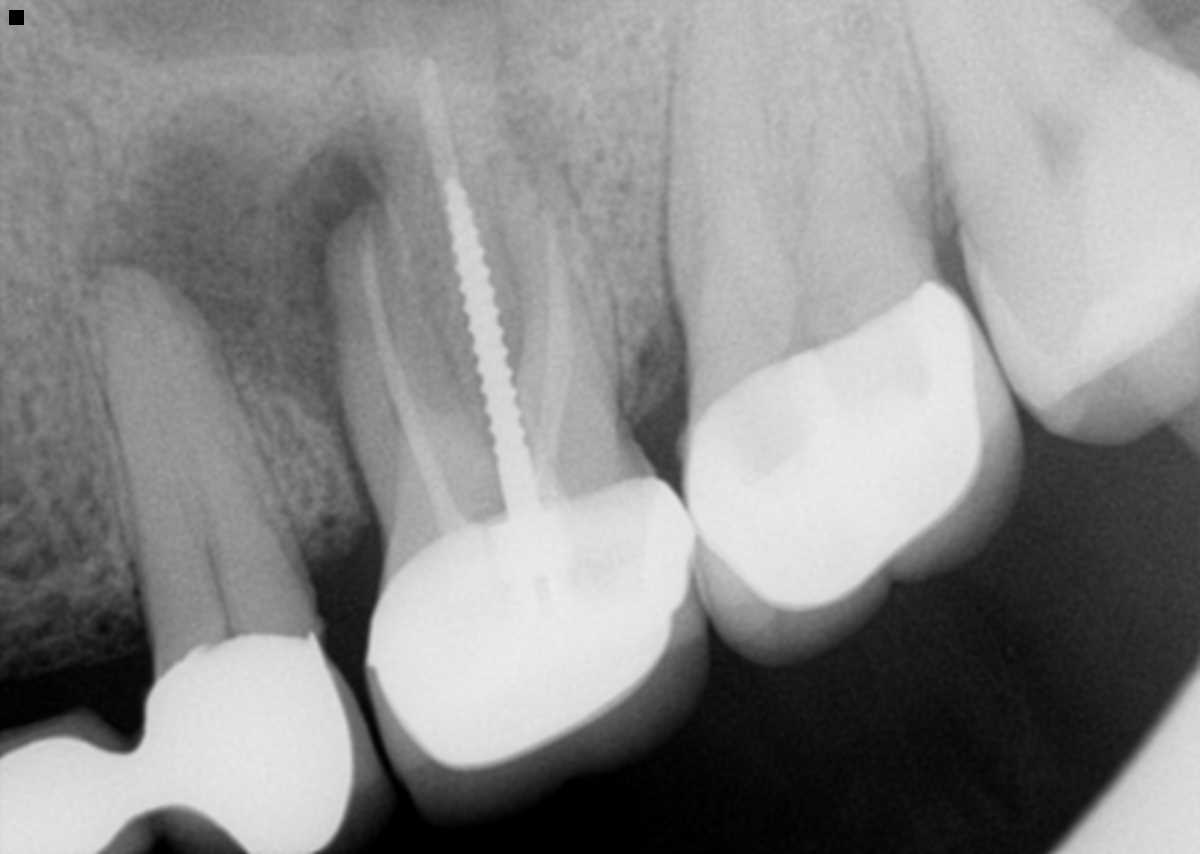Apical Lesion: (81, 99, 292, 339), (253, 148, 380, 430), (482, 91, 575, 172)
Distal Root: (494, 141, 621, 458), (800, 0, 932, 241)
Main Canal: (199, 540, 229, 609)
Main Root: (90, 260, 311, 630), (907, 0, 1188, 222)
Mesial Root: (326, 205, 485, 520), (666, 0, 805, 323)
Palatal Root: (353, 0, 631, 502)
